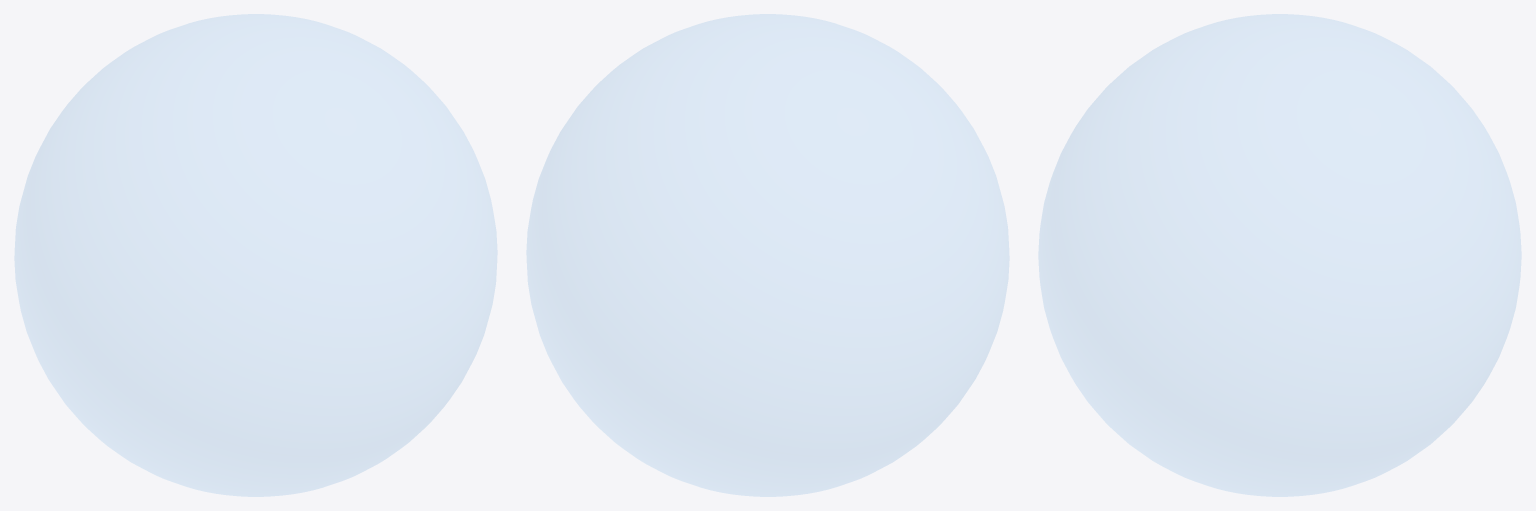
The model's file is planet_4.glb.
3 renders of one model, left to right at view 1: azimuth 30°, elevation 25°; view 2: azimuth 150°, elevation 25°; view 3: azimuth 270°, elevation 25°, orthographic.
Visible parts, largest first — view 1: atmo_4; view 2: atmo_4; view 3: atmo_4.
Boxes of the visible parts, x1,y1,x2,y2 form: atmo_4: (14,14,497,496); atmo_4: (526,14,1009,496); atmo_4: (1038,14,1521,496).
Bounding box in the file's own units: 2.06 × 2.06 × 2.06.
